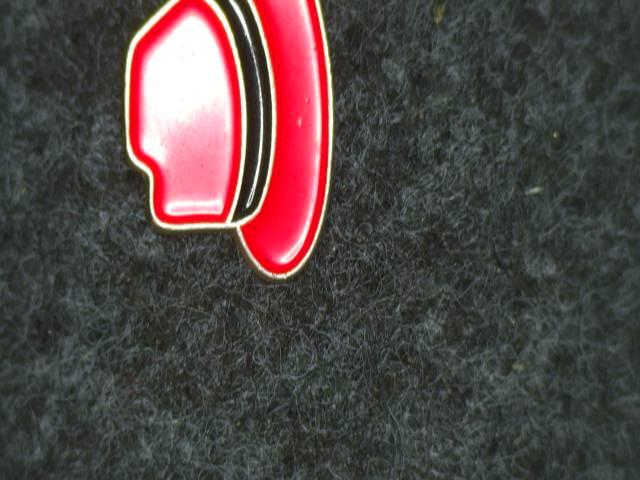Red-Hat: (92, 0, 365, 312)
